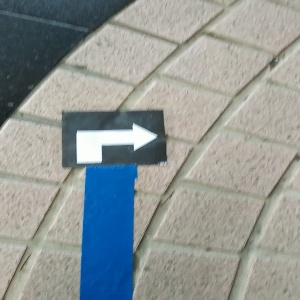right: (60, 111, 166, 166)
